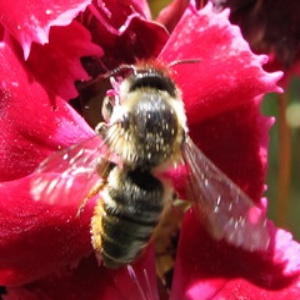bee: (29, 53, 272, 275)
